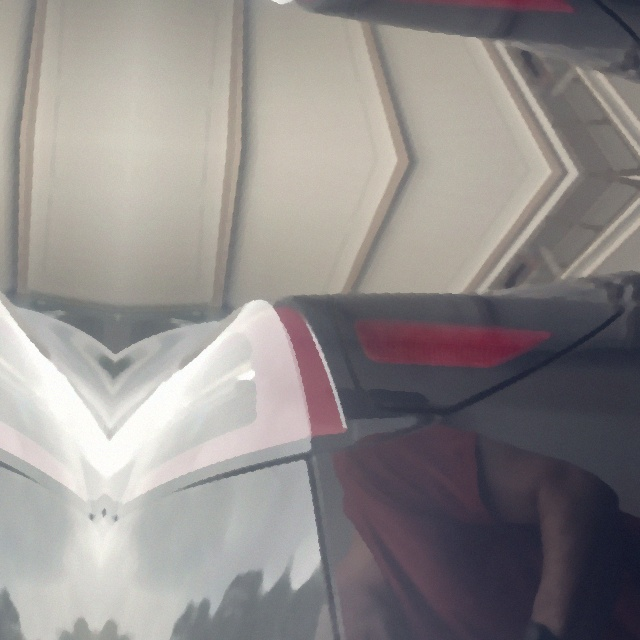reflector: (349, 315, 559, 376)
